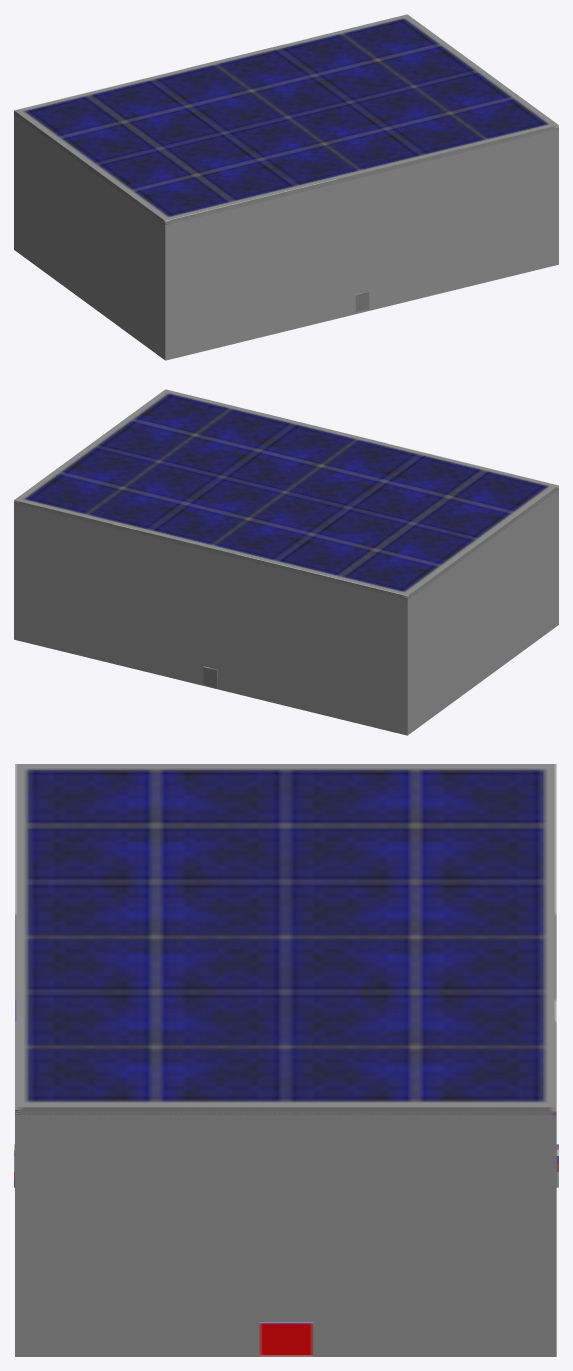
File: bigSolarPanelrot.obj
3 views of the same model, one above another, from view 1: azimuth 30°, elevation 25°; view 2: azimuth 150°, elevation 25°; view 3: azimuth 270°, elevation 25° (orthographic). The views are drawn at different scales.
Visible parts, largest first — view 1: Cube_Cube.006, Minecraft_Block_Cube, Minecraft_Block.005_Cube.005, Minecraft_Block.004_Cube.004, Minecraft_Block.001_Cube.001; view 2: Cube_Cube.006, Minecraft_Block.001_Cube.001, Minecraft_Block.003_Cube.003, Minecraft_Block.002_Cube.002, Minecraft_Block_Cube; view 3: Cube_Cube.006, Minecraft_Block.005_Cube.005, Minecraft_Block.003_Cube.003, Cube.002_Cube.008.
Part boxes in pixels (<box>): Cube_Cube.006: <box>14,14,558,225</box>; Minecraft_Block_Cube: <box>89,170,296,360</box>; Minecraft_Block.005_Cube.005: <box>427,127,558,296</box>; Minecraft_Block.004_Cube.004: <box>296,160,427,328</box>; Minecraft_Block.001_Cube.001: <box>14,115,89,304</box>; Cube_Cube.006: <box>14,389,558,600</box>; Minecraft_Block.001_Cube.001: <box>276,545,483,735</box>; Minecraft_Block.003_Cube.003: <box>14,502,145,671</box>; Minecraft_Block.002_Cube.002: <box>145,534,276,703</box>; Minecraft_Block_Cube: <box>483,490,558,679</box>; Cube_Cube.006: <box>15,764,556,1115</box>; Minecraft_Block.005_Cube.005: <box>15,1111,285,1356</box>; Minecraft_Block.003_Cube.003: <box>286,1111,556,1356</box>; Cube.002_Cube.008: <box>259,1322,313,1356</box>.
Size of the model in its own units: 3.01 by 1.02 by 2.01.
Materials: 3 (2 with a texture image).
